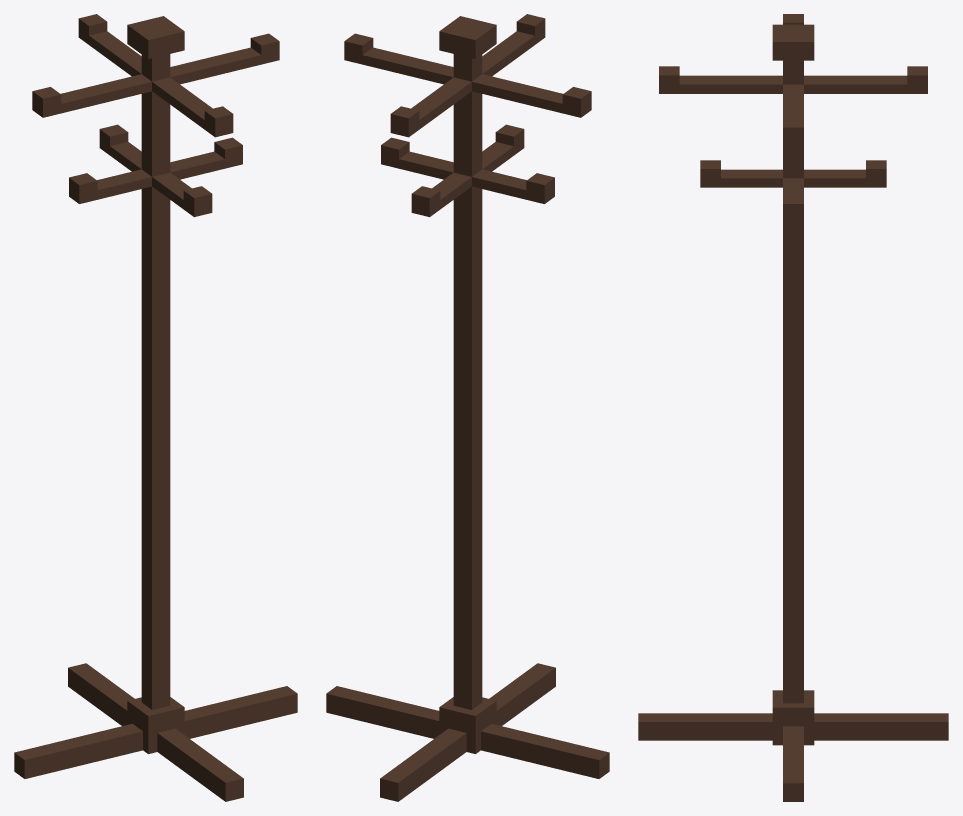
The model's file is coat_rack_01.glb.
3 views of the same model, side by side, from view 1: azimuth 30°, elevation 25°; view 2: azimuth 150°, elevation 25°; view 3: azimuth 270°, elevation 25° (orthographic).
Visible parts, largest first — view 1: Untitled; view 2: Untitled; view 3: Untitled.
Part boxes in pixels (bbox=[...]): Untitled: bbox=[14, 14, 297, 801]; Untitled: bbox=[326, 14, 609, 801]; Untitled: bbox=[638, 14, 948, 801].
Bounding box in the file's own units: 0.9 × 2.25 × 0.9.
Materials: 1 (1 with a texture image).
